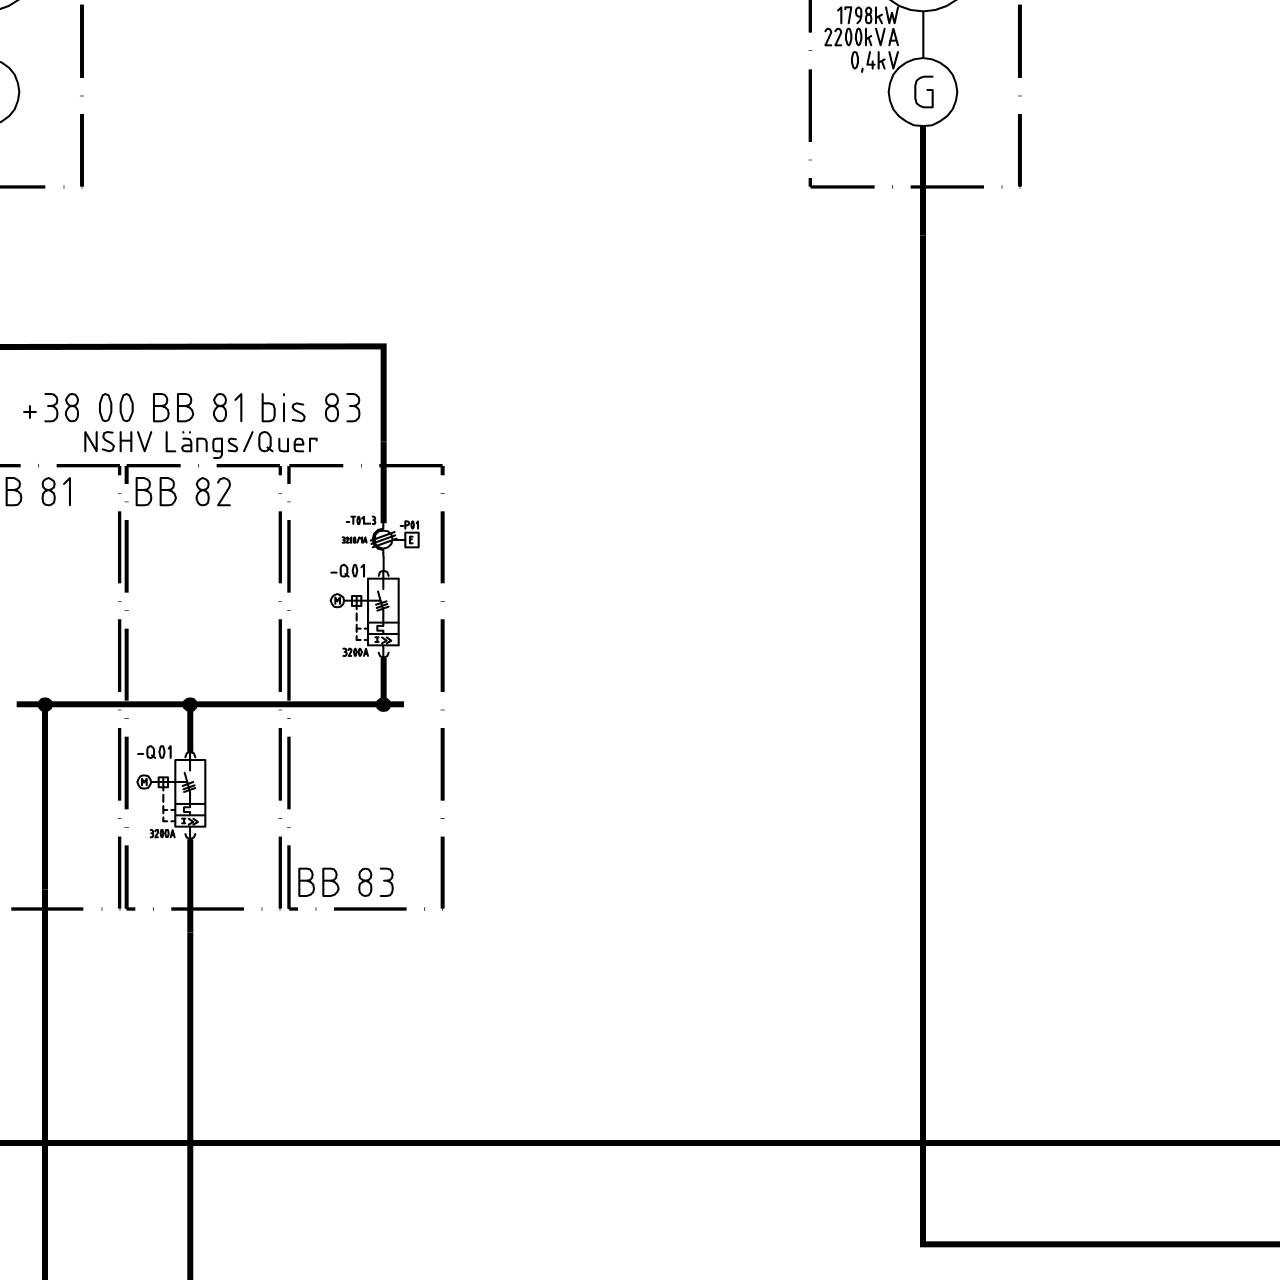Generator: (879, 48, 968, 131)
